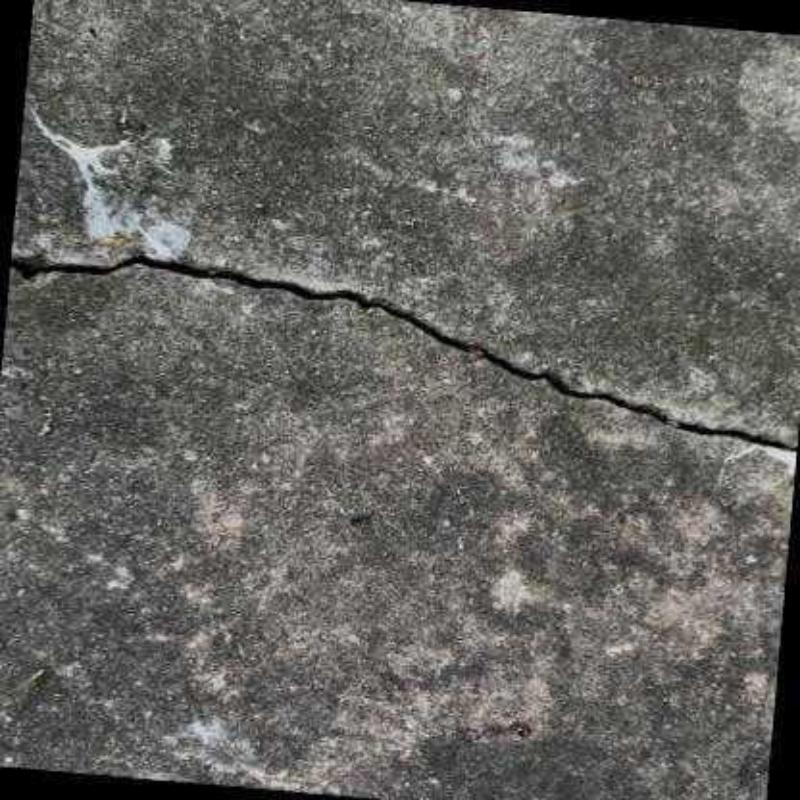pothole: (9, 252, 797, 454)
